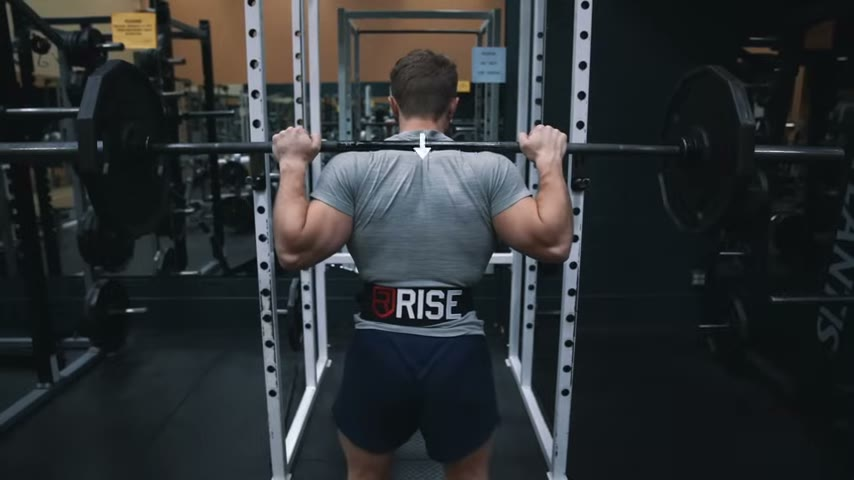barbell_plate_side: (569, 65, 707, 349)
